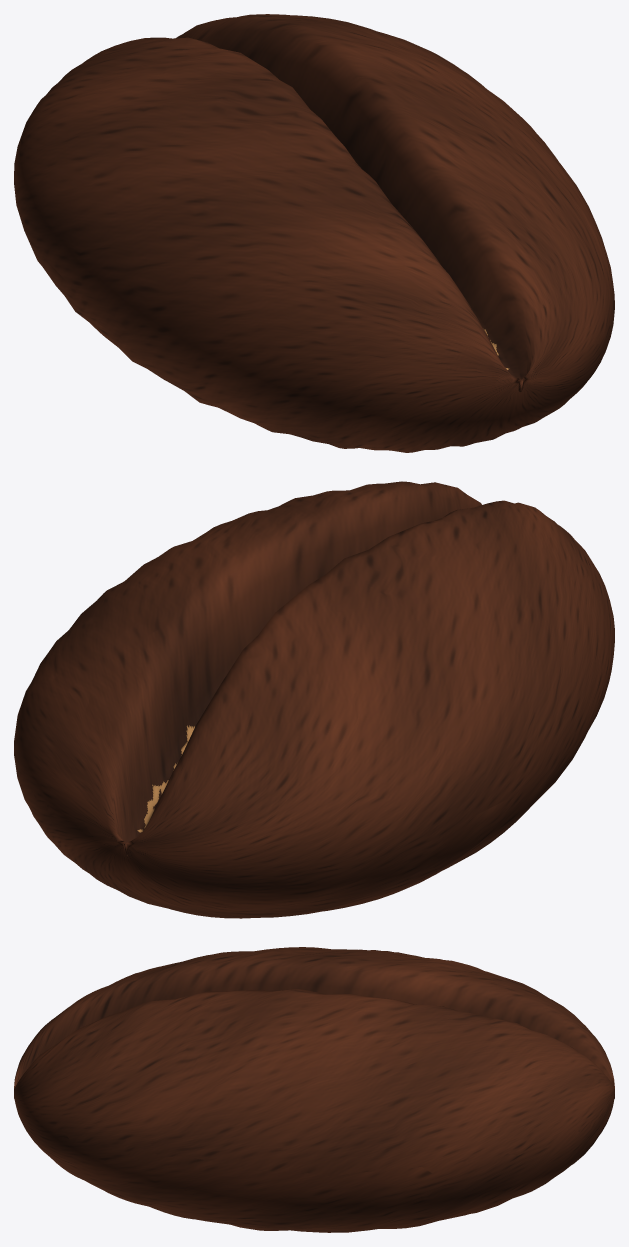
File: bean.glb
The picture shows the model from 3 angles, top to bottom: view 1: azimuth 30°, elevation 25°; view 2: azimuth 150°, elevation 25°; view 3: azimuth 270°, elevation 25°; orthographic projection. The views are drawn at different scales.
Parts seen in each view (by area): view 1: Arabica bean - sculpted center crease; view 2: Arabica bean - sculpted center crease; view 3: Arabica bean - sculpted center crease.
Boxes of the visible parts, box(x1,y1,x2,y2) form: Arabica bean - sculpted center crease: box(14, 14, 614, 452); Arabica bean - sculpted center crease: box(14, 481, 614, 918); Arabica bean - sculpted center crease: box(14, 947, 614, 1232).
Bounding box in the file's own units: 0.00801 × 0.0053 × 0.0124.
Materials: 1 (1 with a texture image).
